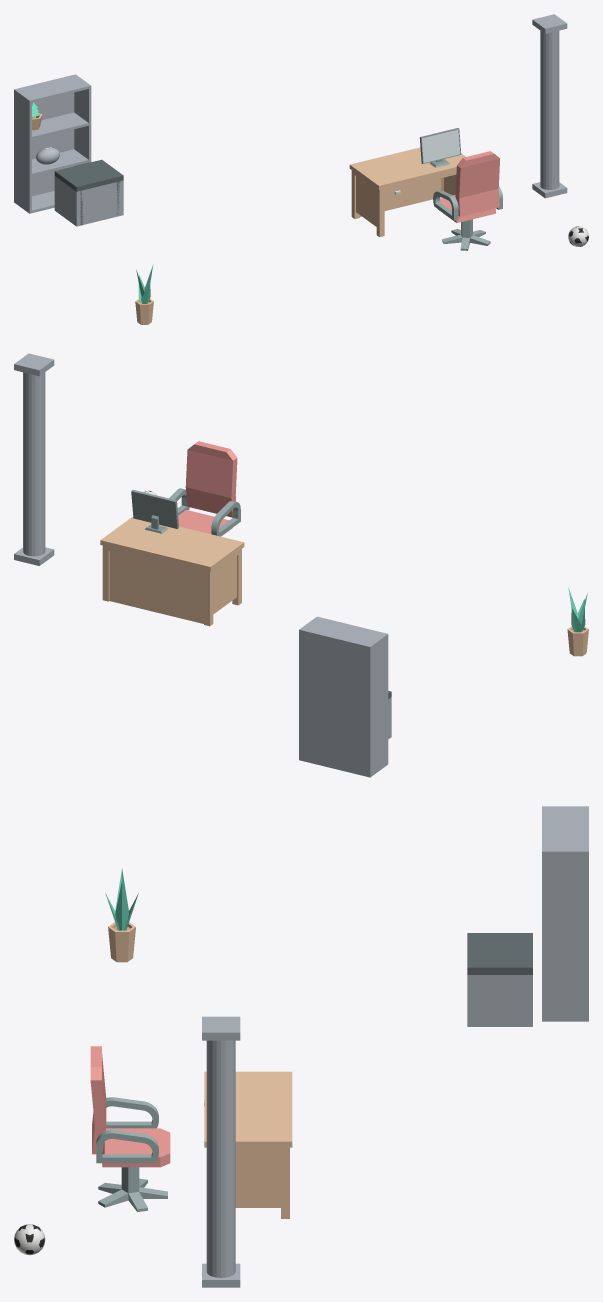
3 views of the same model, one above another, from view 1: azimuth 30°, elevation 25°; view 2: azimuth 150°, elevation 25°; view 3: azimuth 270°, elevation 25° (orthographic). The views are drawn at different scales.
Visible parts, largest first — view 1: desk_blue__desk(Clone), deskchair_black__chair, column_cyan__column_cyan shaft, crate_red__crate_red shell, shelf_orange__shelf_orange side_l, shelf_orange__shelf_orange back, crate_red__crate_red lid, monitor_gray__computerScreen(Clone), shelf_orange__shelf_orange side_r, shelf_orange__shelf_orange board3, shelf_orange__shelf_orange board2, deskchair_black__chairDesk(Clone) (+2 smaller); view 2: desk_blue__desk(Clone), shelf_orange__shelf_orange back, deskchair_black__chair, column_cyan__column_cyan shaft, shelf_orange__shelf_orange side_l, monitor_gray__computerScreen(Clone), shelf_orange__shelf_orange board3, column_cyan__column_cyan capital; view 3: shelf_orange__shelf_orange side_r, desk_blue__desk(Clone), column_cyan__column_cyan shaft, deskchair_black__chair, crate_red__crate_red shell, crate_red__crate_red lid, shelf_orange__shelf_orange board3, deskchair_black__chairDesk(Clone), column_cyan__column_cyan capital, plant_pink__pottedPlant(Clone), soccer_white__soccer_white, plant_pink__plant.
Boxes of the visible parts, x1,y1,x2,y2 form: desk_blue__desk(Clone): [349, 147, 465, 237]; deskchair_black__chair: [433, 151, 502, 222]; column_cyan__column_cyan shaft: [540, 30, 559, 189]; crate_red__crate_red shell: [54, 176, 123, 226]; shelf_orange__shelf_orange side_l: [14, 89, 31, 213]; shelf_orange__shelf_orange back: [17, 75, 74, 196]; crate_red__crate_red lid: [54, 159, 123, 191]; monitor_gray__computerScreen(Clone): [419, 128, 461, 167]; shelf_orange__shelf_orange side_r: [74, 74, 91, 166]; shelf_orange__shelf_orange board3: [17, 75, 88, 102]; shelf_orange__shelf_orange board2: [32, 112, 88, 139]; deskchair_black__chairDesk(Clone): [442, 219, 490, 250]; desk_blue__desk(Clone): [100, 516, 244, 626]; shelf_orange__shelf_orange back: [302, 629, 367, 776]; deskchair_black__chair: [169, 441, 240, 536]; column_cyan__column_cyan shaft: [23, 372, 45, 556]; shelf_orange__shelf_orange side_l: [367, 633, 388, 777]; monitor_gray__computerScreen(Clone): [131, 489, 178, 533]; shelf_orange__shelf_orange board3: [303, 617, 384, 645]; column_cyan__column_cyan capital: [14, 353, 54, 376]; shelf_orange__shelf_orange side_r: [542, 849, 588, 1021]; desk_blue__desk(Clone): [204, 1071, 292, 1218]; column_cyan__column_cyan shaft: [206, 1040, 235, 1277]; deskchair_black__chair: [90, 1046, 170, 1167]; crate_red__crate_red shell: [467, 975, 532, 1026]; crate_red__crate_red lid: [467, 933, 532, 974]; shelf_orange__shelf_orange board3: [542, 808, 585, 849]; deskchair_black__chairDesk(Clone): [98, 1167, 167, 1211]; column_cyan__column_cyan capital: [202, 1016, 240, 1040]; plant_pink__pottedPlant(Clone): [108, 922, 135, 962]; soccer_white__soccer_white: [14, 1224, 45, 1255]; plant_pink__plant: [105, 868, 138, 930].
Bounding box in the file's own units: 5.56 × 1.97 × 4.02.
